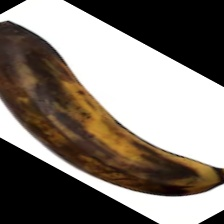banana: (26, 8, 173, 179)
